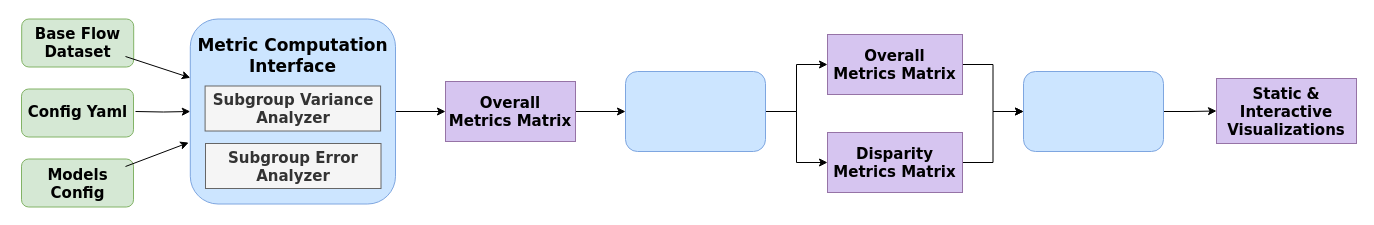
The diagram is 1374 pixels wide and 225 high, and some of its shapes have lost their labels. The centre of each missing label's shape, as x and y in pixels:
Metric Composer: the point at 695,111
Metric Visualizers: the point at 1093,111
